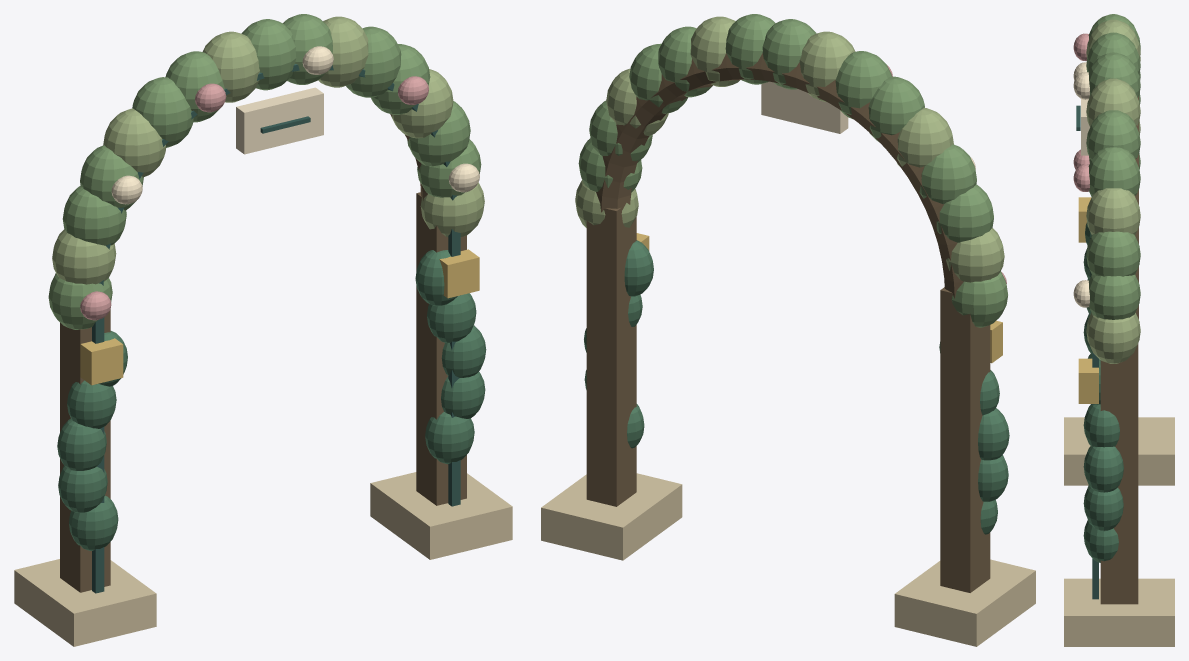
File: garden-arbor.glb
3 renders of one model, left to right at view 1: azimuth 30°, elevation 25°; view 2: azimuth 150°, elevation 25°; view 3: azimuth 270°, elevation 25°, orthographic. The views are drawn at different scales.
Parts seen in each view (by area): view 1: garden-arbor; view 2: garden-arbor; view 3: garden-arbor.
Part boxes in pixels (box(x1,y1,x2,y2)): garden-arbor: box(14, 14, 512, 646); garden-arbor: box(541, 14, 1035, 646); garden-arbor: box(1064, 14, 1174, 646).
Bounding box in the file's own units: 2.76 × 3.32 × 0.65.
